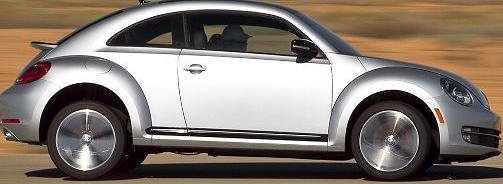backlight: (18, 60, 66, 84)
front_view: (423, 65, 502, 165)
headlight: (438, 70, 481, 104)
side_glass: (110, 10, 322, 58)
